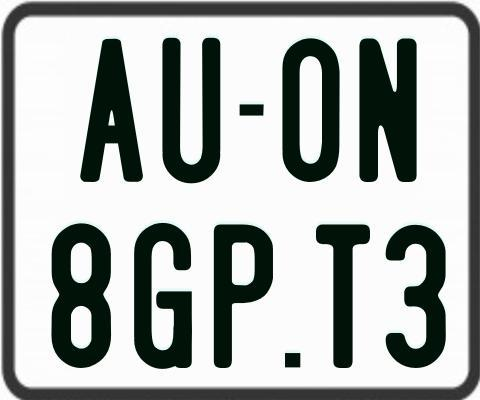0: (279, 36, 340, 181)
3: (385, 224, 449, 369)
8: (48, 221, 111, 371)
A: (77, 38, 140, 184)
G: (132, 221, 193, 367)
N: (356, 36, 420, 184)
P: (212, 223, 274, 370)
T: (315, 223, 374, 372)
U: (162, 37, 220, 187)
